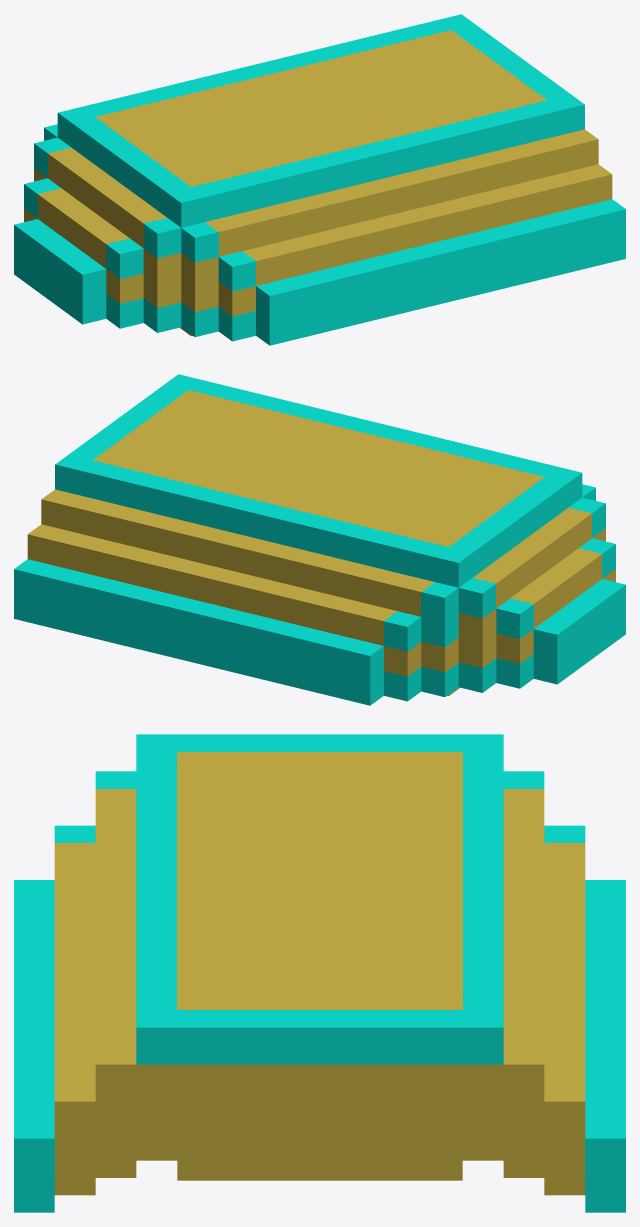
File: Vehicle_31.fbx
3 views of the same model, one above another, from view 1: azimuth 30°, elevation 25°; view 2: azimuth 150°, elevation 25°; view 3: azimuth 270°, elevation 25° (orthographic). The views are drawn at different scales.
Visible parts, largest first — view 1: Vehicle_31; view 2: Vehicle_31; view 3: Vehicle_31.
Boxes of the visible parts, x1,y1,x2,y2 form: Vehicle_31: (14,14,625,345); Vehicle_31: (14,374,625,705); Vehicle_31: (14,734,625,1212).
Size of the model in its own units: 20 by 6 by 15.
Materials: 1 (1 with a texture image).
